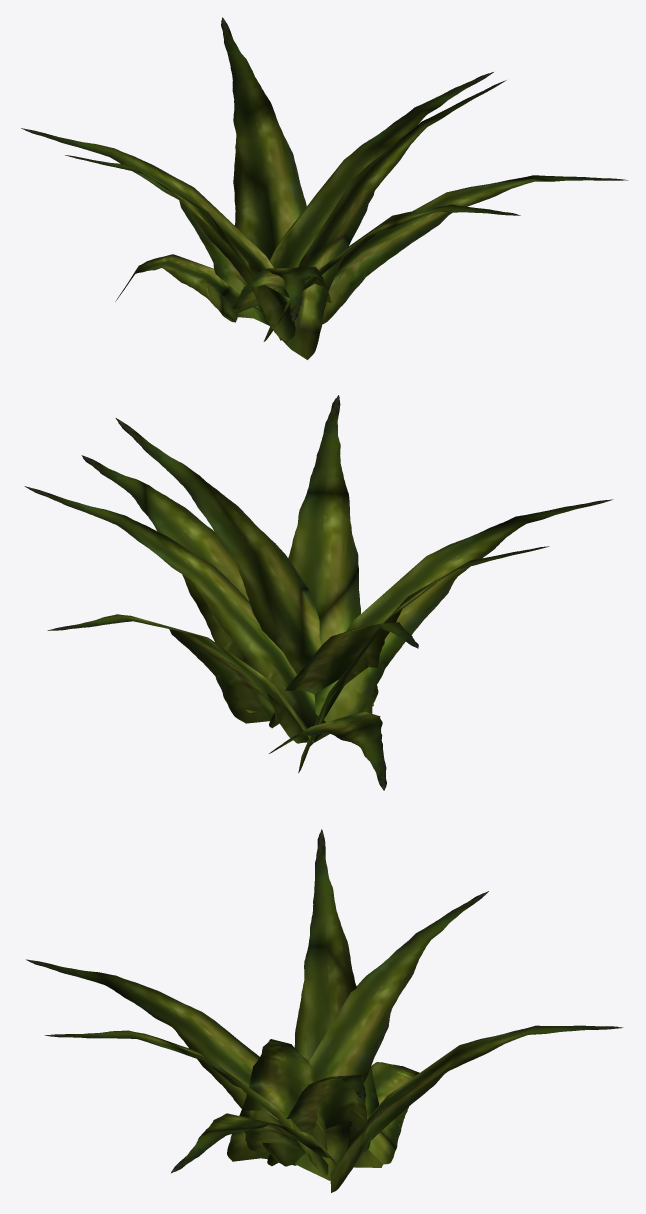
The model's file is NW_NATURE_PLANT_02.glb.
3 renders of one model, top to bottom at view 1: azimuth 30°, elevation 25°; view 2: azimuth 150°, elevation 25°; view 3: azimuth 270°, elevation 25°, orthographic. The views are drawn at different scales.
Visible parts, largest first — view 1: Mesh; view 2: Mesh; view 3: Mesh.
Part boxes in pixels (x1,y1,x2,y2): Mesh: (21, 17, 628, 359); Mesh: (24, 395, 613, 790); Mesh: (26, 829, 623, 1192).
Size of the model in its own units: 3.4 by 1.55 by 3.49.
Materials: 1 (1 with a texture image).
